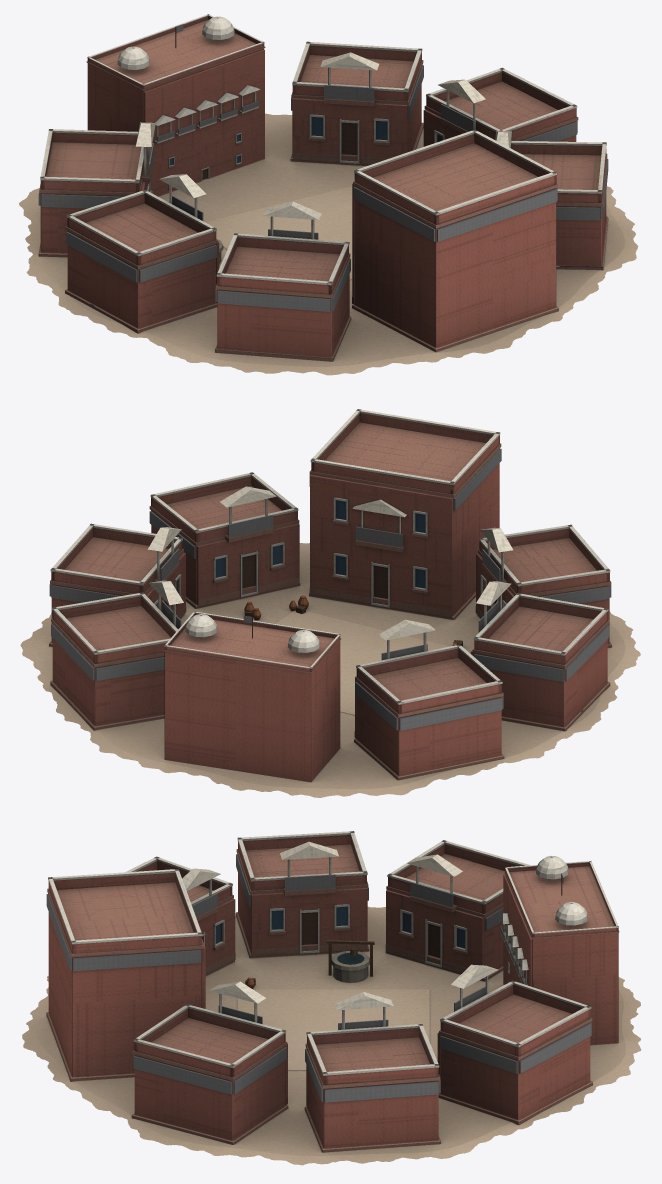
File: gunpowder-town-small-b-indic-b0ce98f5.glb
3 renders of one model, top to bottom at view 1: azimuth 30°, elevation 25°; view 2: azimuth 150°, elevation 25°; view 3: azimuth 270°, elevation 25°, orthographic.
Parts seen in each view (by area): view 1: LOD0; view 2: LOD0; view 3: LOD0.
Boxes of the visible parts, <box> form: LOD0: <box>19,14,638,375</box>; LOD0: <box>20,409,640,797</box>; LOD0: <box>22,831,641,1165</box>.
Size of what is drawn, in the model's own units: 3.95 by 0.9926 by 3.97.
3 materials, 3 textured.
